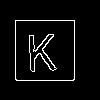K: (25, 25, 57, 72)
